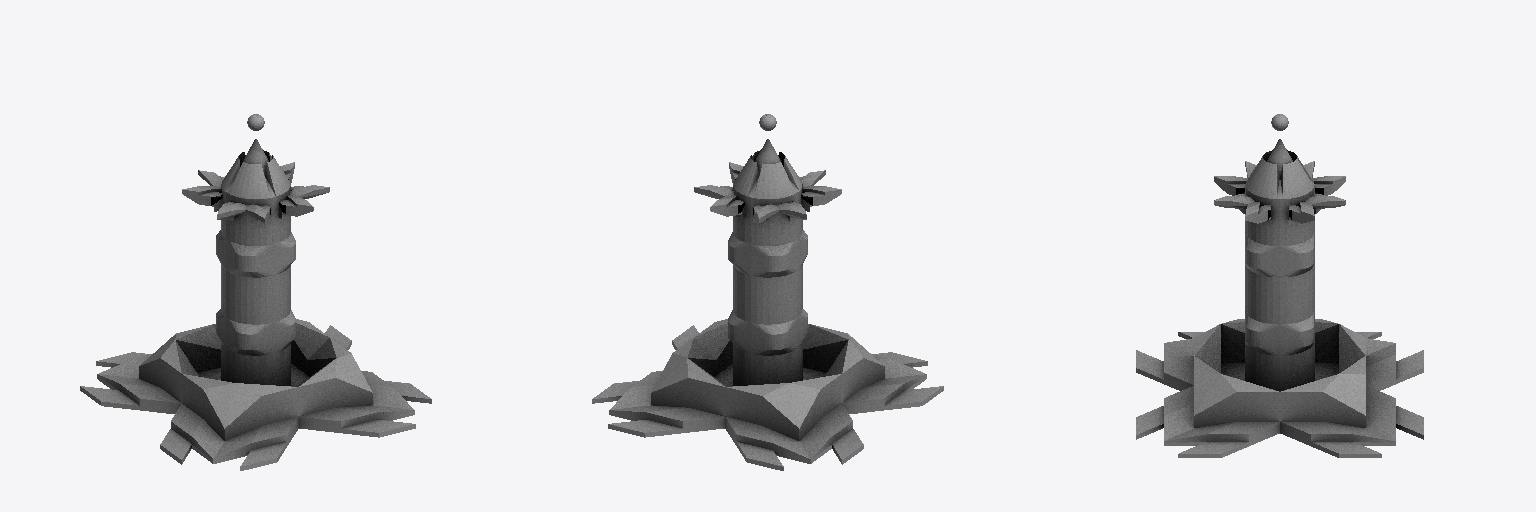
3 views of the same model, side by side, from view 1: azimuth 30°, elevation 25°; view 2: azimuth 150°, elevation 25°; view 3: azimuth 270°, elevation 25° (orthographic).
Parts seen in each view (by area): view 1: Cube; view 2: Cube; view 3: Cube.
Boxes of the visible parts, x1=… form: Cube: x1=80, y1=114, x2=431, y2=470; Cube: x1=592, y1=114, x2=943, y2=470; Cube: x1=1136, y1=114, x2=1423, y2=457.
Size of the model in its own units: 8.35 by 9.01 by 8.35.
1 materials, 1 textured.